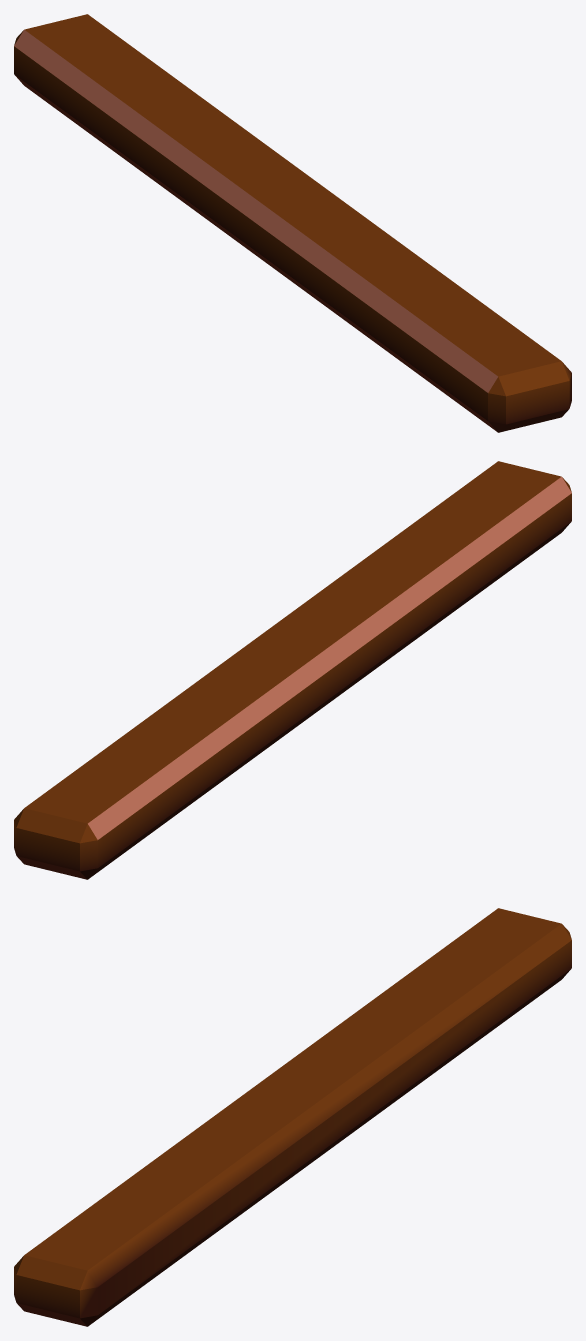
The model's file is plank.fbx.
3 views of the same model, one above another, from view 1: azimuth 30°, elevation 25°; view 2: azimuth 150°, elevation 25°; view 3: azimuth 330°, elevation 25° (orthographic).
Parts seen in each view (by area): view 1: pCube1; view 2: pCube1; view 3: pCube1.
Part boxes in pixels (x1,y1,x2,y2): pCube1: (14,14,571,432); pCube1: (14,461,571,879); pCube1: (14,908,571,1326).
Size of the model in its own units: 31.9 by 20.44 by 323.
